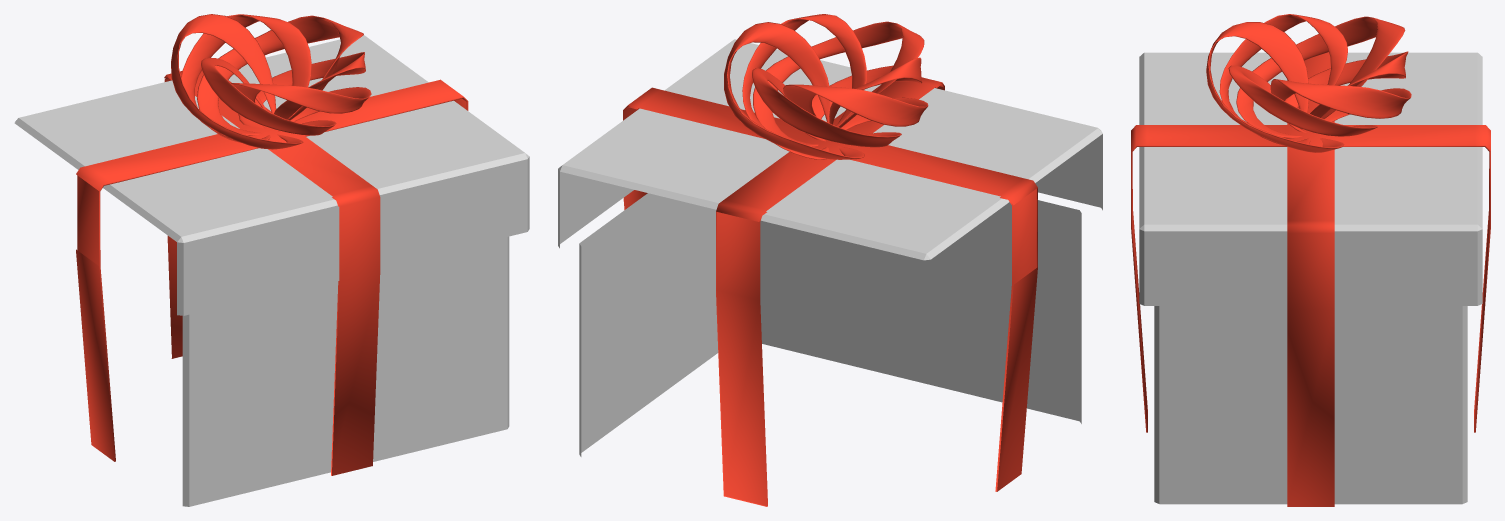
File: giftbox.glb
The picture shows the model from 3 angles, left to right: view 1: azimuth 30°, elevation 25°; view 2: azimuth 150°, elevation 25°; view 3: azimuth 270°, elevation 25°; orthographic projection. The views are drawn at different scales.
Parts seen in each view (by area): view 1: r-Cube, r-Cube.001, Sphere; view 2: r-Cube, r-Cube.001, Sphere; view 3: r-Cube, r-Cube.001, Sphere.
Part boxes in pixels (bbox=[...]): r-Cube: bbox=[14, 35, 529, 506]; r-Cube.001: bbox=[76, 70, 468, 475]; Sphere: bbox=[171, 14, 371, 149]; r-Cube: bbox=[558, 39, 1102, 456]; r-Cube.001: bbox=[623, 77, 1037, 506]; Sphere: bbox=[724, 14, 928, 159]; r-Cube: bbox=[1139, 52, 1482, 504]; r-Cube.001: bbox=[1131, 52, 1490, 506]; Sphere: bbox=[1206, 14, 1411, 152].
Bounding box in the file's own units: 7.08 × 6.78 × 5.83.
